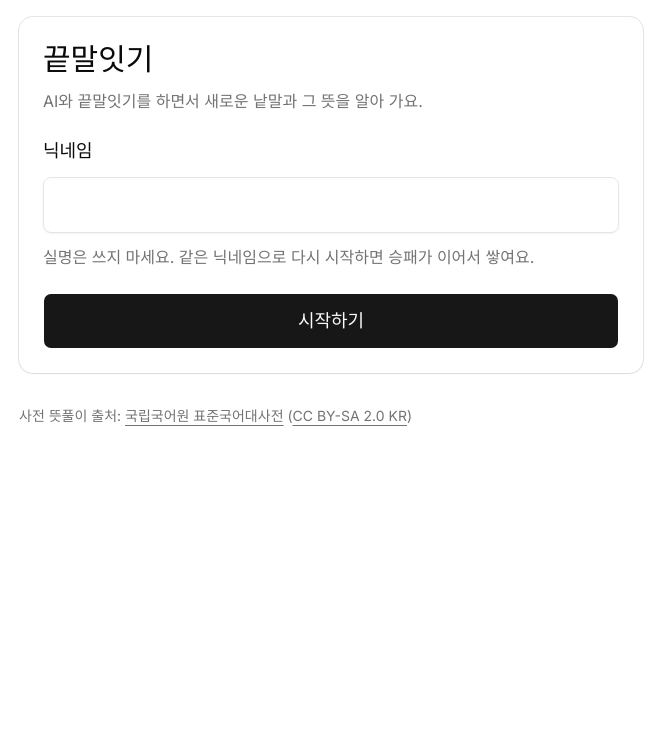
Scenario: 사전으로 단어 확인 › 사전 단어 뒤에는 AI가 단어장 단어로 이어 간다
Type "하늘" into the field labelled "닉네임" at coordinates (331, 205), box [43,177,619,233]
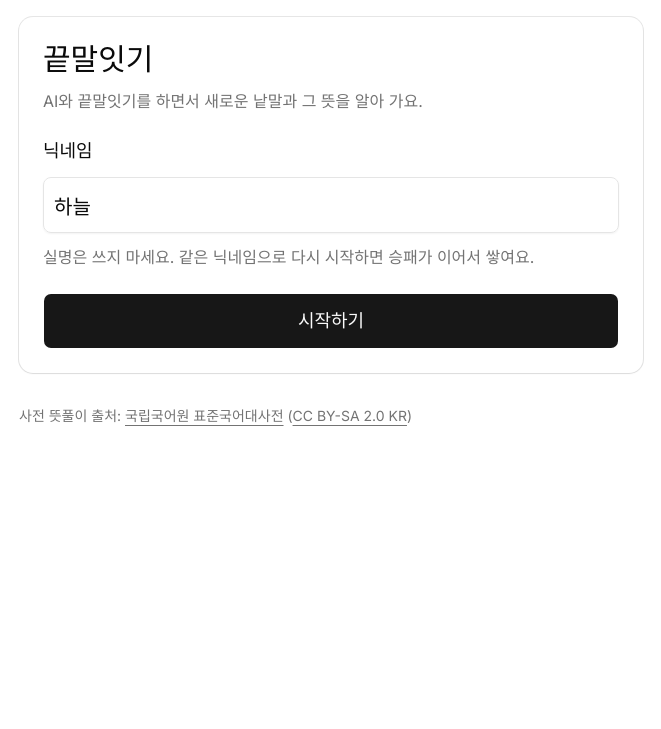
Click the button "시작하기" at coordinates (331, 321), box [43,293,619,349]
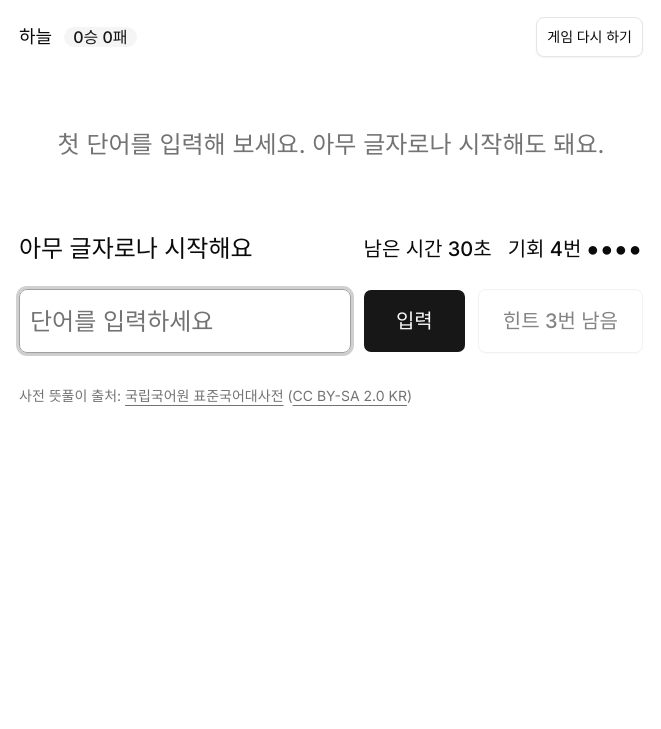
Type "사자" into the field named "단어 입력" at coordinates (185, 321), box [19,289,351,353]
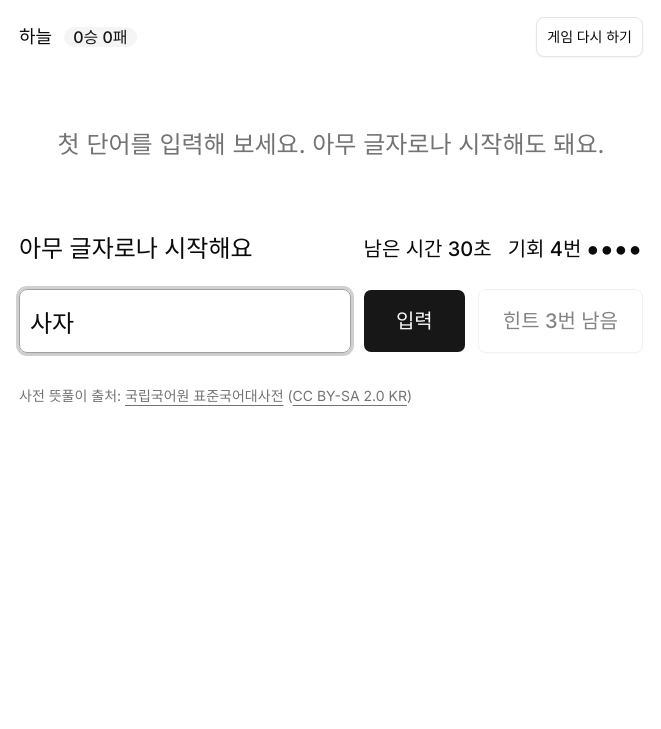
Click the button "입력" at coordinates (414, 321), box [363,289,466,353]
Wait 1500 ms
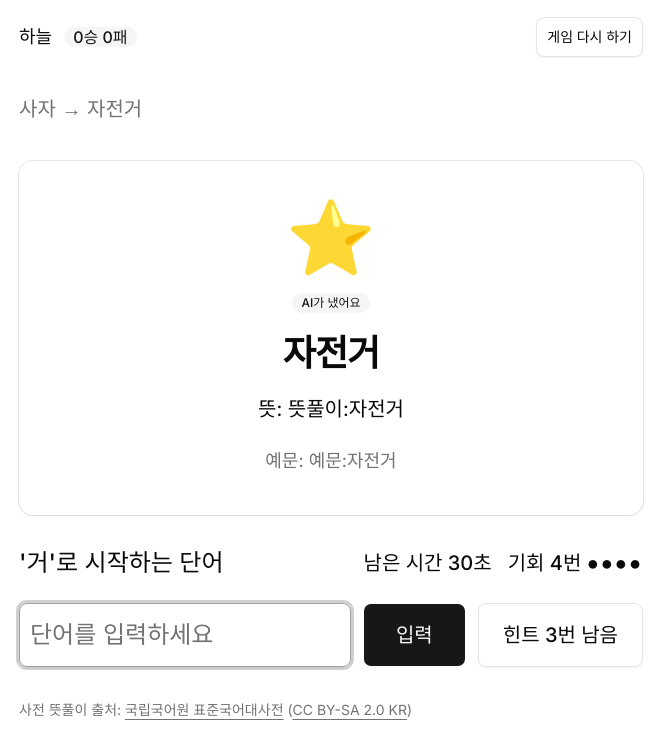
Now the element with test id "word-card" shows "자전거", box [283,331,379,375]
Now the element with test id "word-card" shows "AI가 냈어요", box [301,295,360,310]
